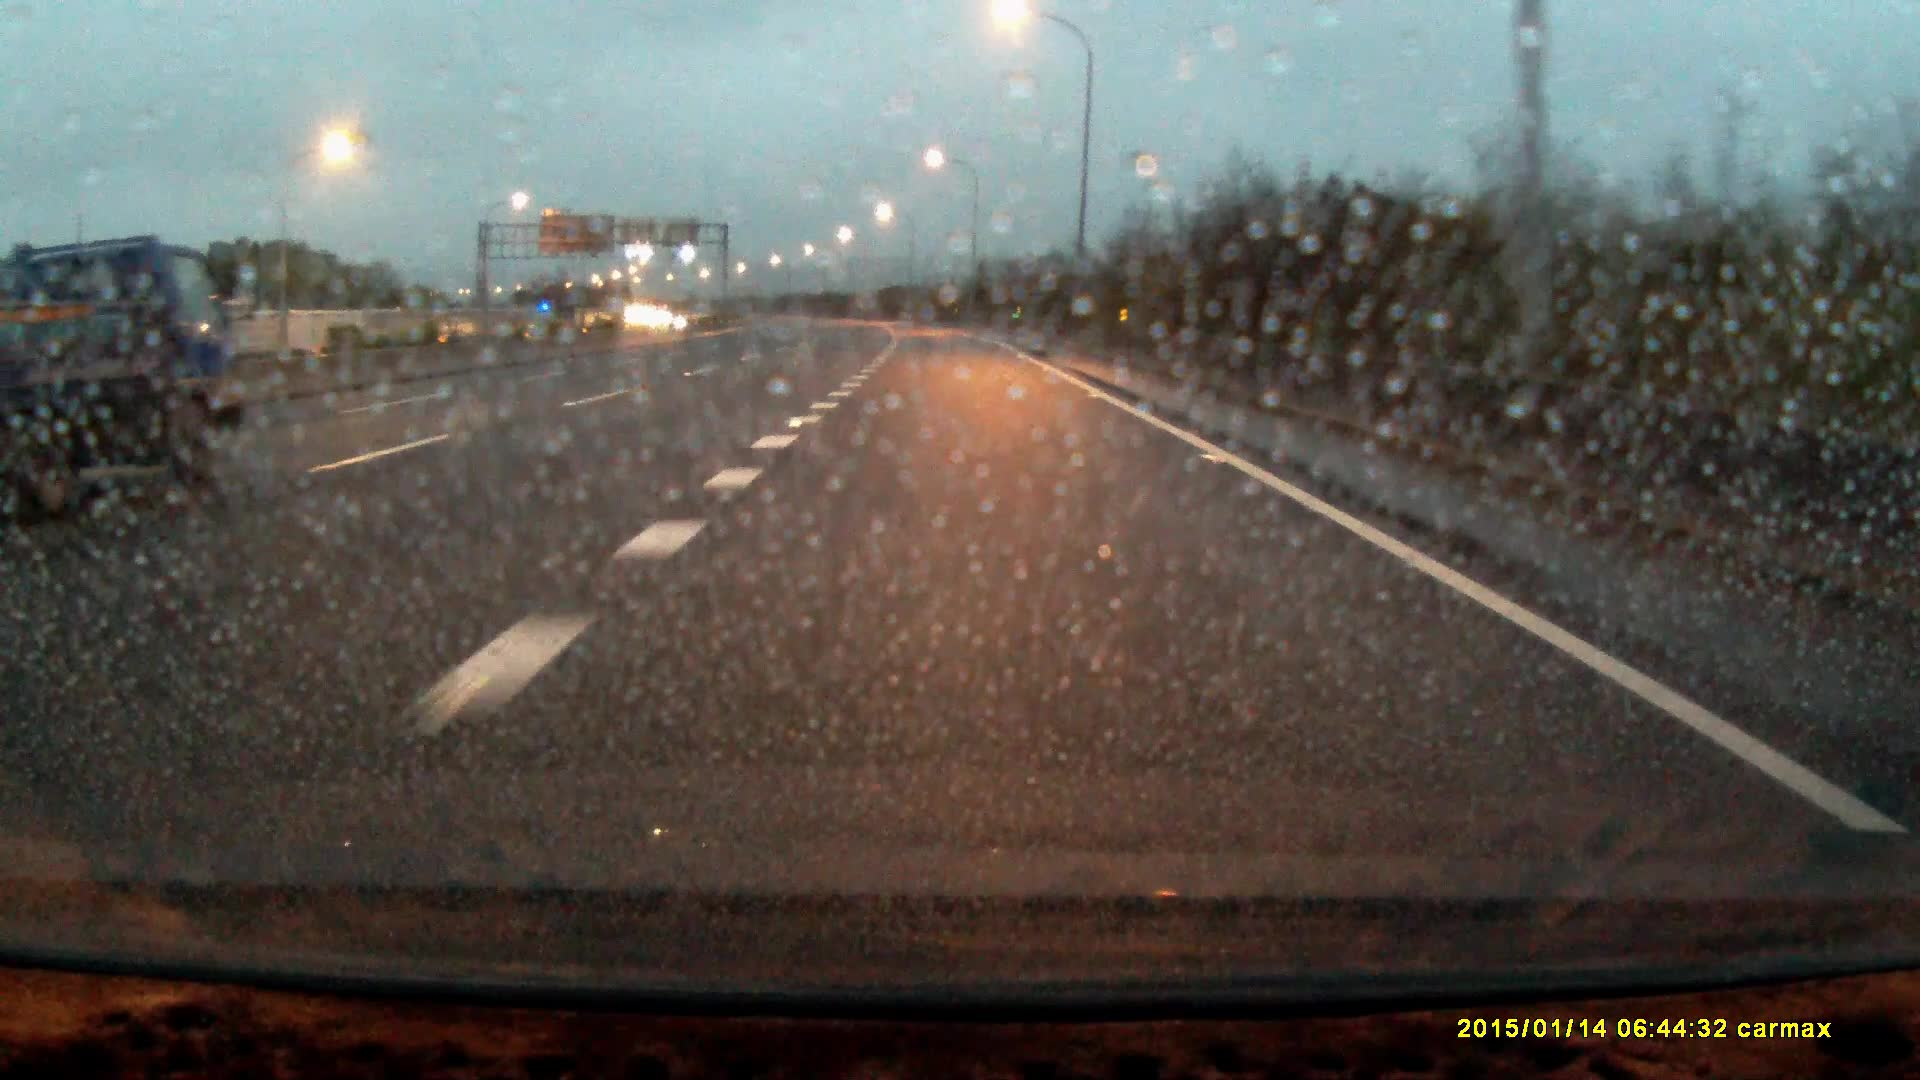vehicle: (1, 222, 301, 522)
